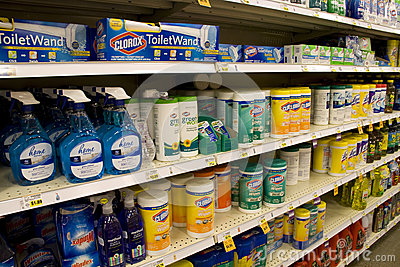Wipes: (183, 179, 217, 240), (139, 193, 173, 252), (169, 172, 198, 230), (237, 163, 265, 215), (262, 157, 287, 210), (269, 87, 291, 137), (232, 93, 252, 144), (211, 165, 232, 212), (215, 91, 232, 148), (196, 168, 215, 216), (252, 92, 266, 143), (227, 161, 242, 208), (313, 201, 328, 241), (294, 209, 309, 248), (300, 85, 312, 133), (290, 89, 303, 132), (306, 205, 319, 247), (197, 89, 215, 117), (264, 220, 277, 257), (273, 215, 286, 249), (144, 179, 171, 193), (209, 72, 225, 90), (195, 72, 210, 90), (265, 89, 270, 138)
